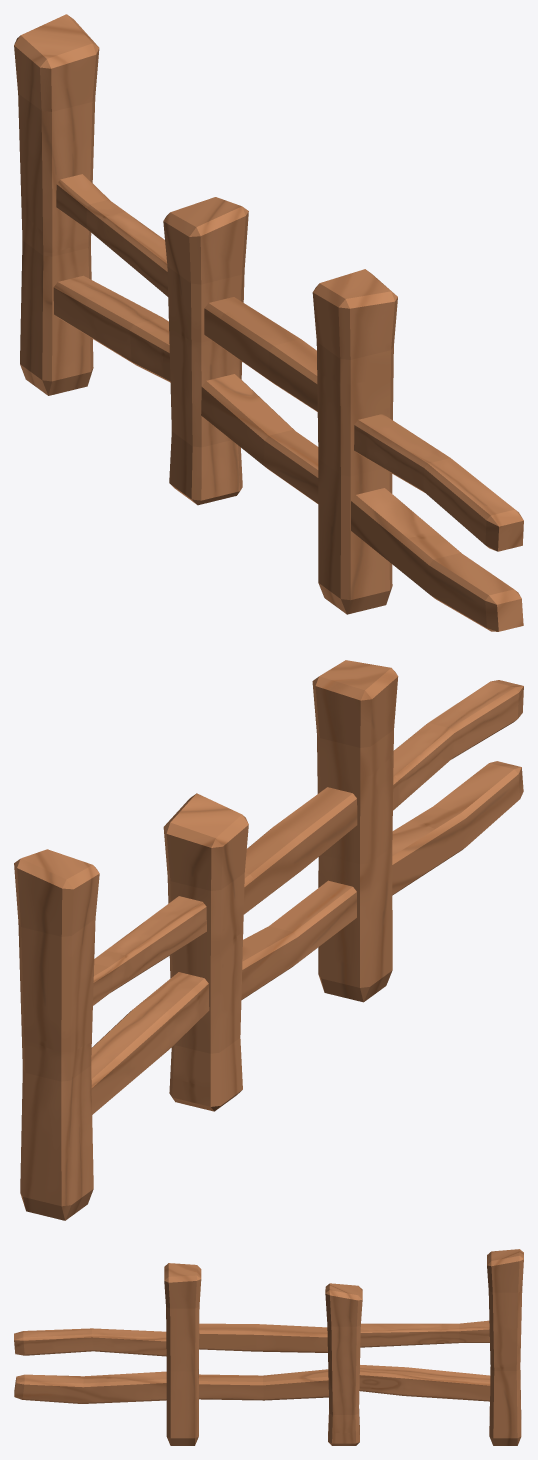
File: WholeFence.fbx
The picture shows the model from 3 angles, top to bottom: view 1: azimuth 30°, elevation 25°; view 2: azimuth 150°, elevation 25°; view 3: azimuth 270°, elevation 25°; orthographic projection. The views are drawn at different scales.
Parts seen in each view (by area): view 1: Cube.051; view 2: Cube.051; view 3: Cube.051.
Part boxes in pixels (x1,y1,x2,y2): Cube.051: (14,14,523,631); Cube.051: (14,660,523,1220); Cube.051: (14,1249,523,1445).
Size of the model in its own units: 231 by 1307 by 3161.
Materials: 1 (1 with a texture image).
